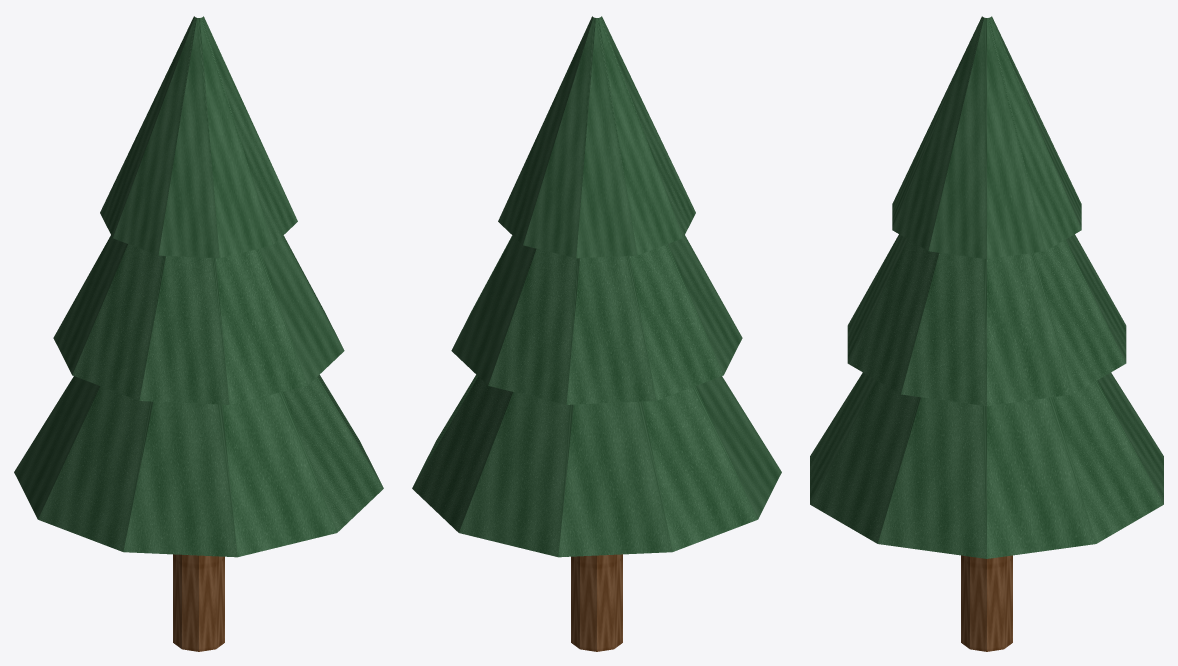
The model's file is pine_tree.gltf.
The picture shows the model from 3 angles, left to right: view 1: azimuth 30°, elevation 25°; view 2: azimuth 150°, elevation 25°; view 3: azimuth 270°, elevation 25°; orthographic projection.
Parts seen in each view (by area): view 1: pine_tree; view 2: pine_tree; view 3: pine_tree.
Part boxes in pixels (left/top/right/bottom): pine_tree: left=14, top=16, right=383, bottom=651; pine_tree: left=412, top=16, right=781, bottom=651; pine_tree: left=810, top=16, right=1163, bottom=651.
Size of the model in its own units: 3.1 by 5.74 by 2.95.
Materials: 2 (2 with a texture image).
